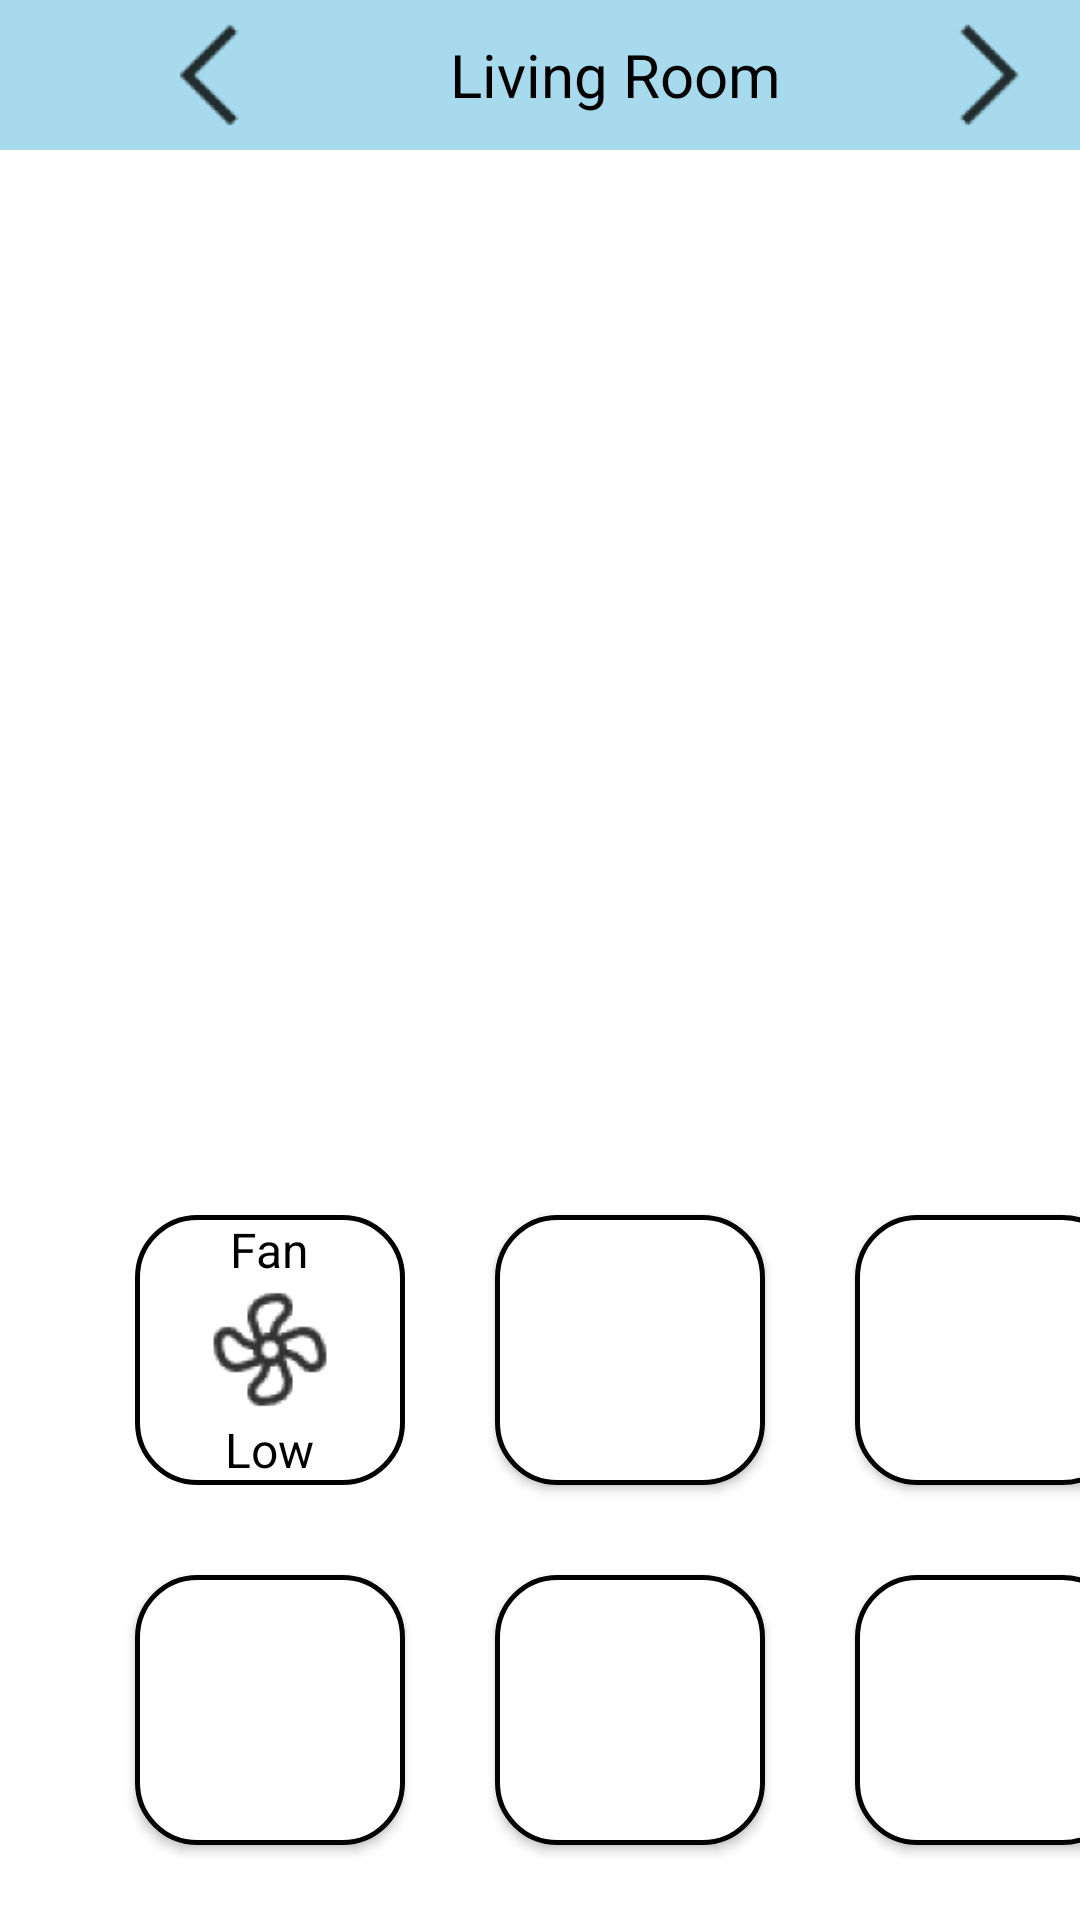

Where to tap for icons on this 1080w x 1920h app screen, as (x=x, y=y):
back arrow: (x=209, y=75)
forward arrow: (x=989, y=75)
